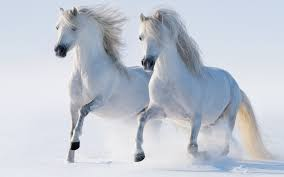horse: (128, 9, 270, 171), (51, 6, 171, 163)
